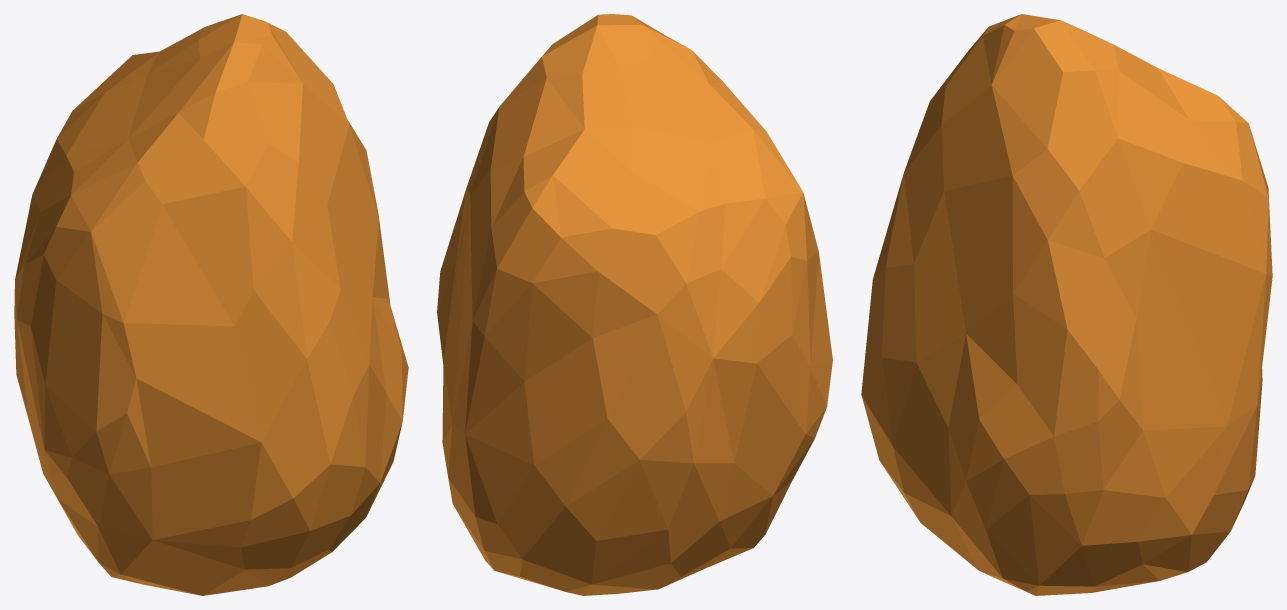
File: MediumRock.fbx
The picture shows the model from 3 angles, left to right: view 1: azimuth 30°, elevation 25°; view 2: azimuth 150°, elevation 25°; view 3: azimuth 270°, elevation 25°; orthographic projection. The views are drawn at different scales.
Visible parts, largest first — view 1: RockMedium; view 2: RockMedium; view 3: RockMedium.
Part boxes in pixels (x1,y1,x2,y2): RockMedium: (14, 14, 408, 595); RockMedium: (437, 14, 832, 595); RockMedium: (861, 14, 1272, 595).
Bounding box in the file's own units: 3.05 × 3.07 × 4.59.
